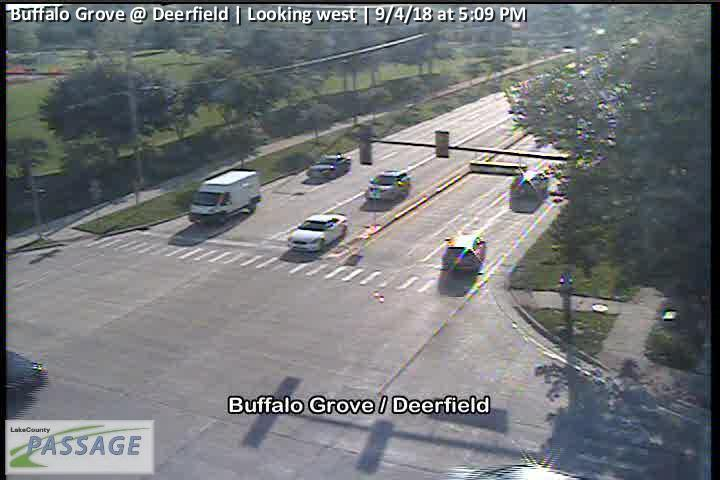Sedan: (285, 213, 348, 253), (440, 235, 487, 271), (507, 172, 549, 212), (367, 170, 410, 199), (307, 153, 350, 178)
Truck: (187, 168, 263, 227)
